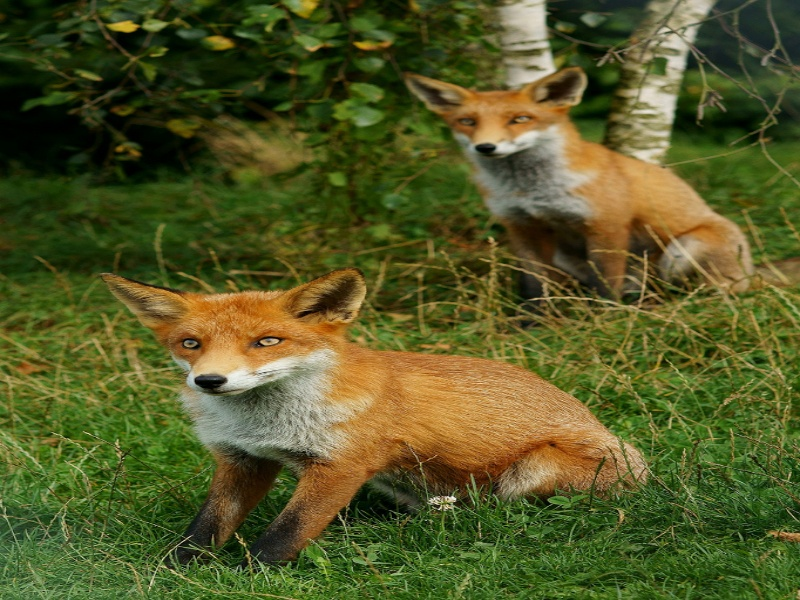fox: (91, 267, 662, 577), (403, 76, 770, 313)
